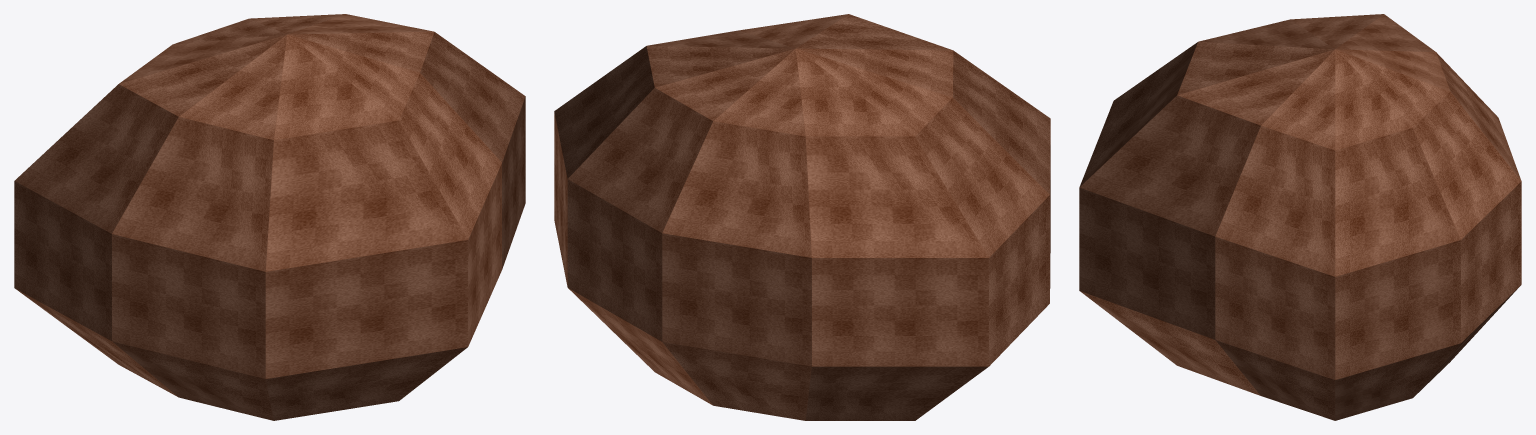
The model's file is canyon_rock.obj.
3 views of the same model, side by side, from view 1: azimuth 30°, elevation 25°; view 2: azimuth 150°, elevation 25°; view 3: azimuth 270°, elevation 25° (orthographic). The views are drawn at different scales.
Parts seen in each view (by area): view 1: CanyonRock; view 2: CanyonRock; view 3: CanyonRock.
Boxes of the visible parts, box(x1,y1,x2,y2) form: CanyonRock: box(14, 14, 525, 420); CanyonRock: box(554, 14, 1050, 420); CanyonRock: box(1079, 14, 1521, 420).
Size of the model in its own units: 2.1 by 1.48 by 1.77.
1 material, 1 textured.
